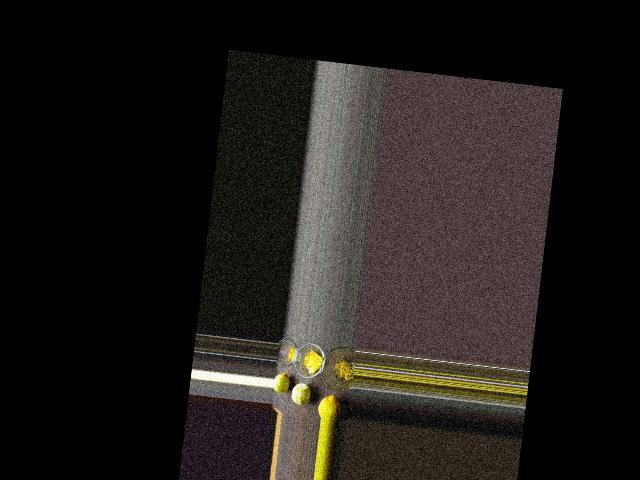lemon: (317, 390, 341, 418)
